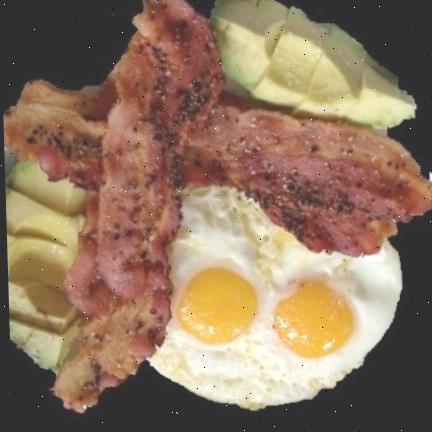egg: (150, 188, 404, 407)
green_vegetables: (210, 0, 415, 128), (5, 160, 93, 375)
meat: (4, 0, 432, 412)
